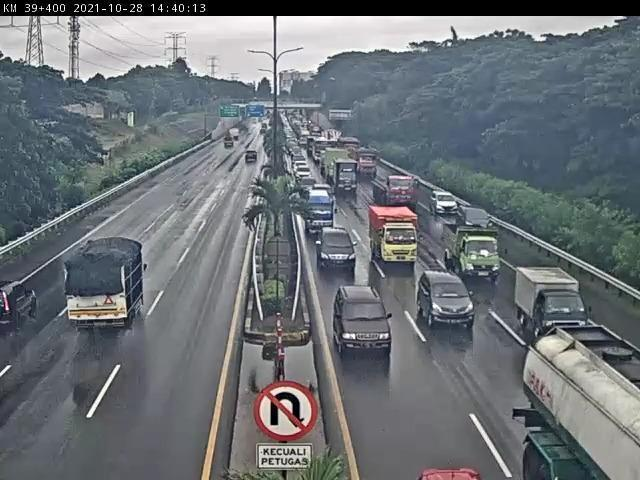bus: (304, 186, 340, 238)
car: (516, 268, 595, 339), (333, 286, 397, 353), (417, 271, 479, 331), (318, 228, 357, 271), (458, 204, 496, 235), (431, 191, 460, 220)
truck: (64, 240, 146, 330), (440, 226, 503, 284), (370, 204, 424, 271), (372, 173, 423, 210)
